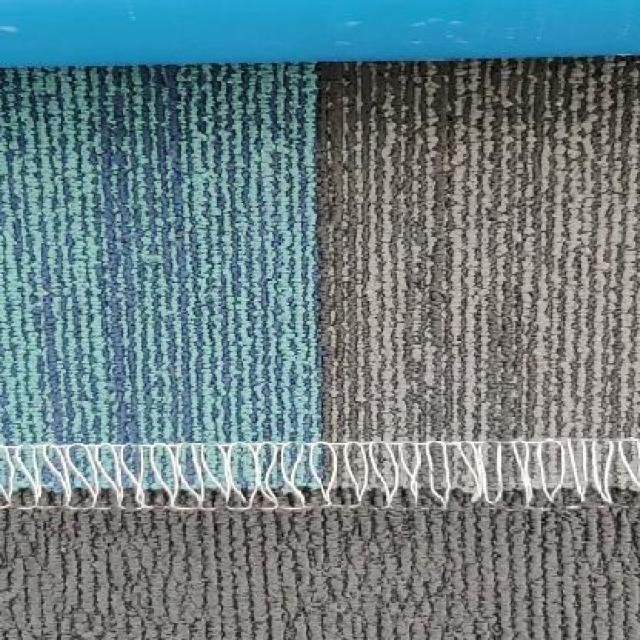gray stitch: (3, 435, 640, 514)
